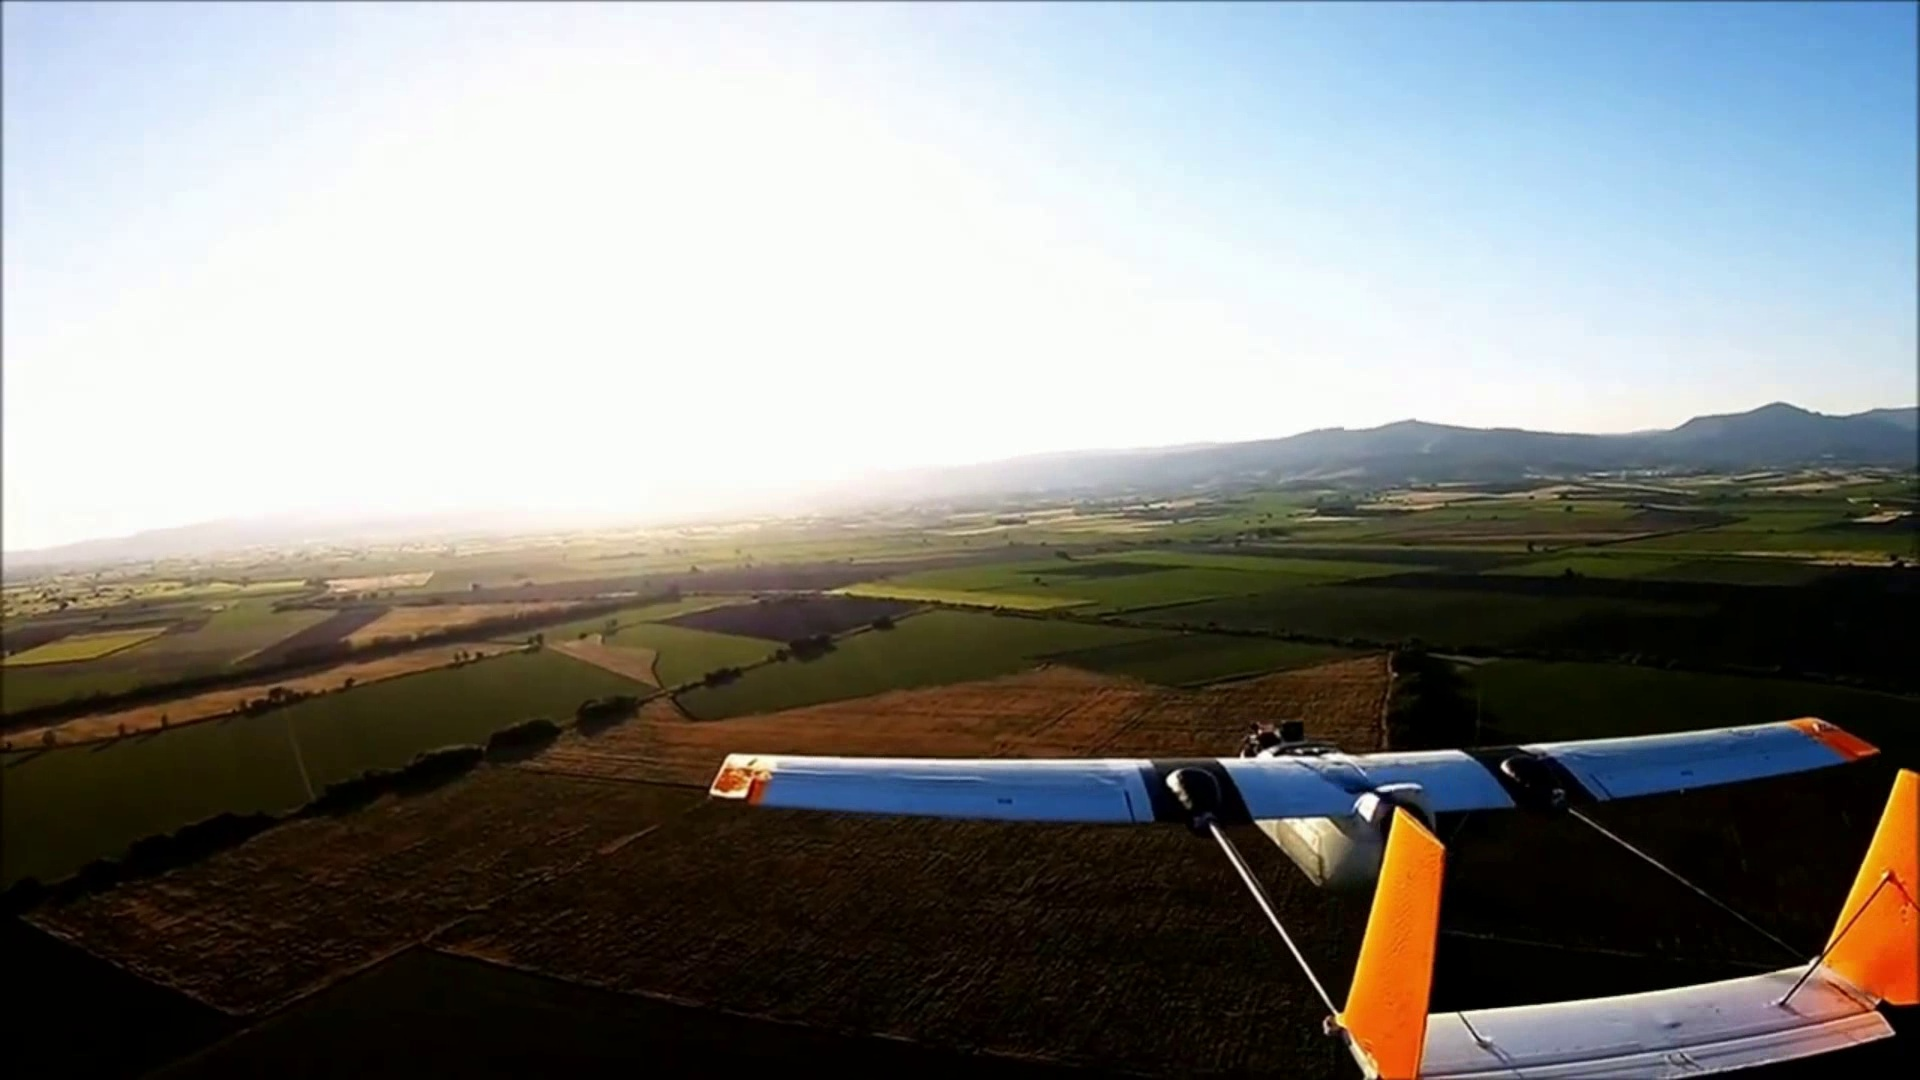airplane: (711, 719, 1915, 1064)
